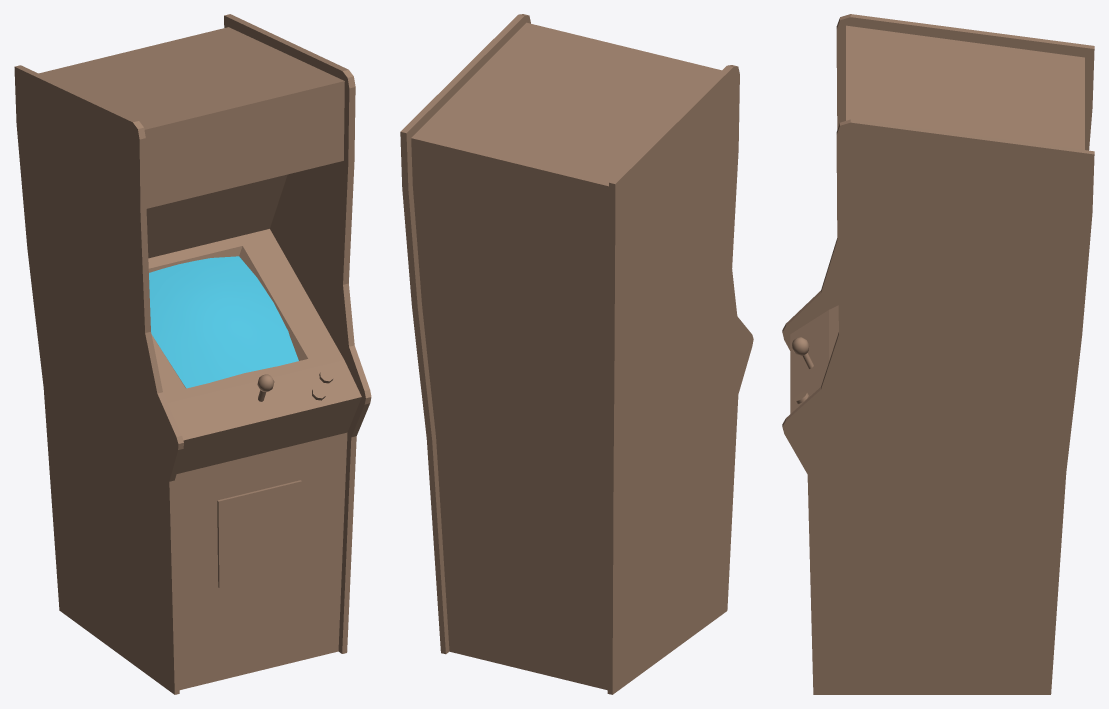
The model's file is arcade_sm.fbx.
The picture shows the model from 3 angles, left to right: view 1: azimuth 30°, elevation 25°; view 2: azimuth 150°, elevation 25°; view 3: azimuth 270°, elevation 25°; orthographic projection. The views are drawn at different scales.
Visible parts, largest first — view 1: Arcade_SM, Screen_Plane; view 2: Arcade_SM; view 3: Arcade_SM.
Part boxes in pixels (bbox=[...]): Arcade_SM: bbox=[14, 14, 371, 694]; Screen_Plane: bbox=[149, 256, 298, 388]; Arcade_SM: bbox=[400, 14, 753, 694]; Arcade_SM: bbox=[782, 14, 1094, 694].
Bounding box in the file's own units: 0.8625 × 2.16 × 1.05.
